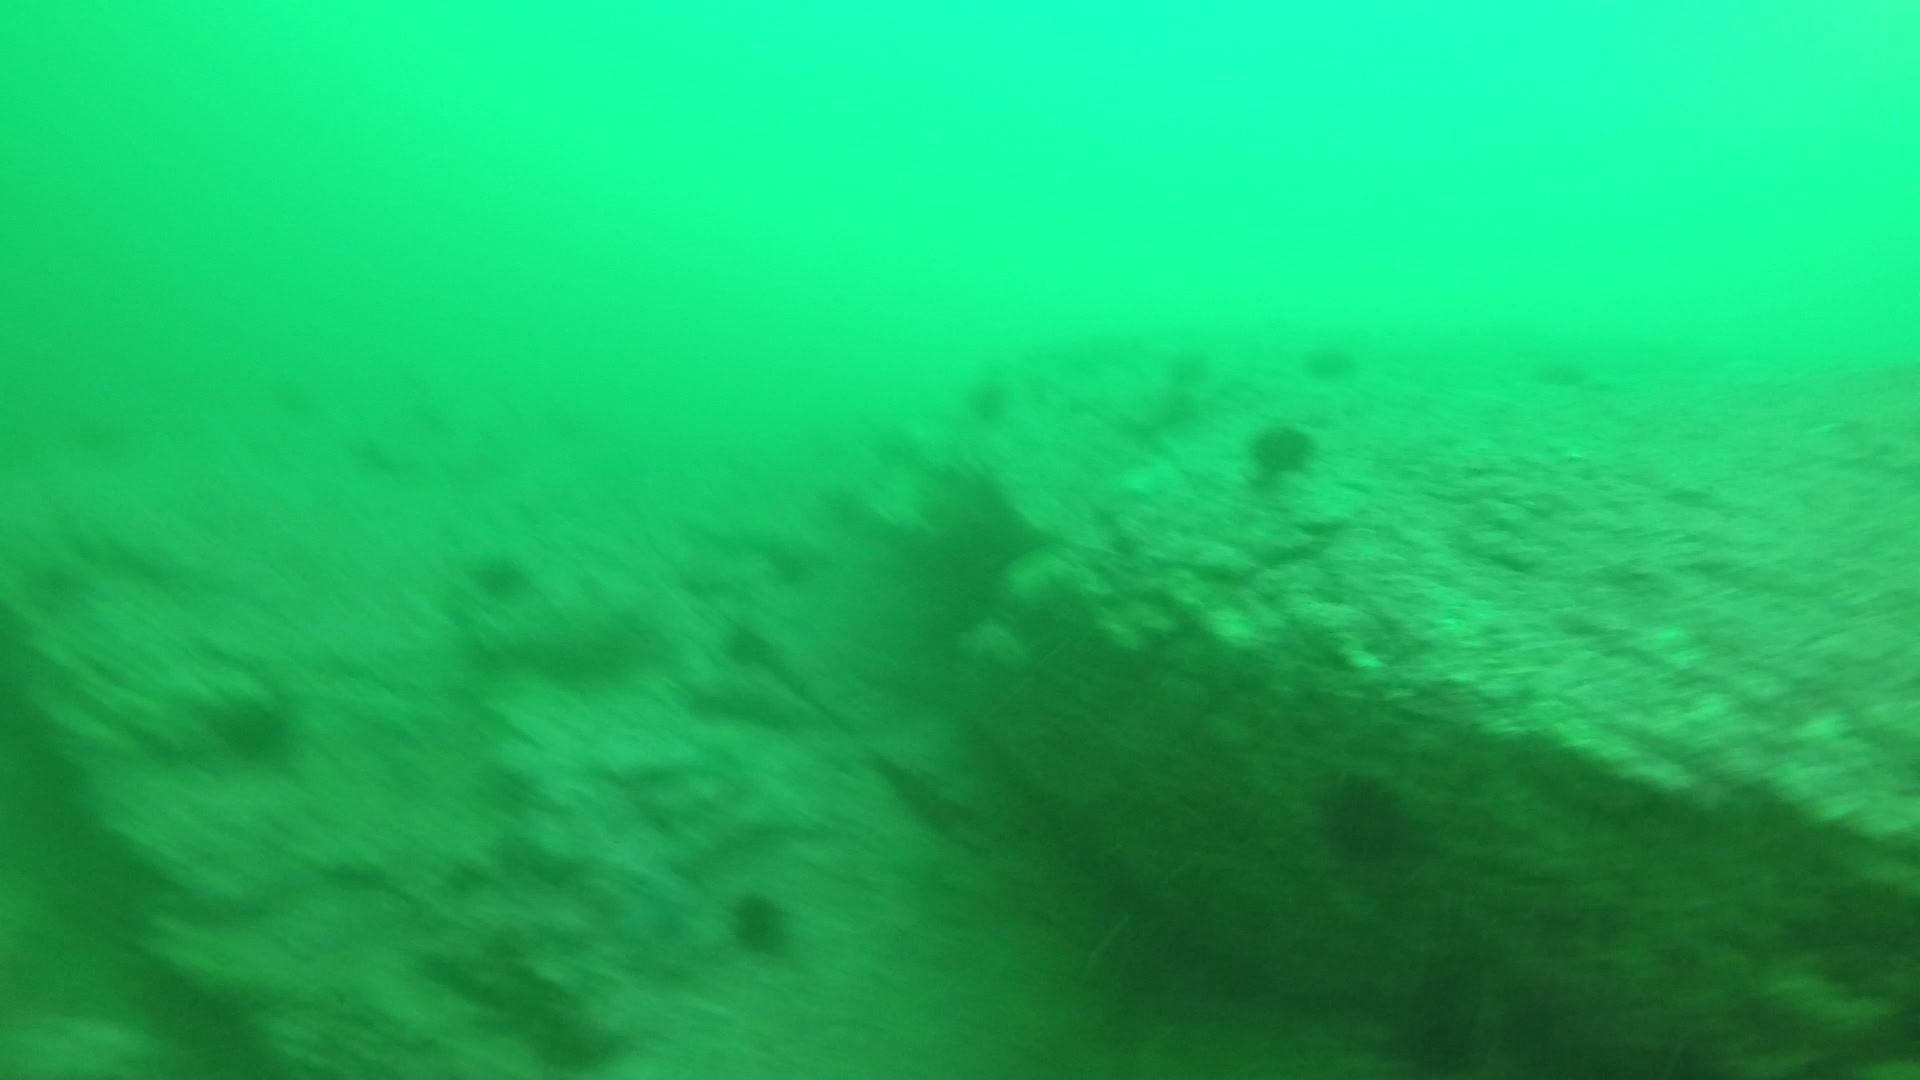echinus: (1312, 766, 1418, 866), (204, 683, 305, 770), (721, 884, 800, 961), (1240, 415, 1323, 487), (465, 545, 537, 605), (957, 367, 1018, 429), (1299, 332, 1362, 386), (1153, 386, 1211, 443), (1160, 348, 1218, 404)
